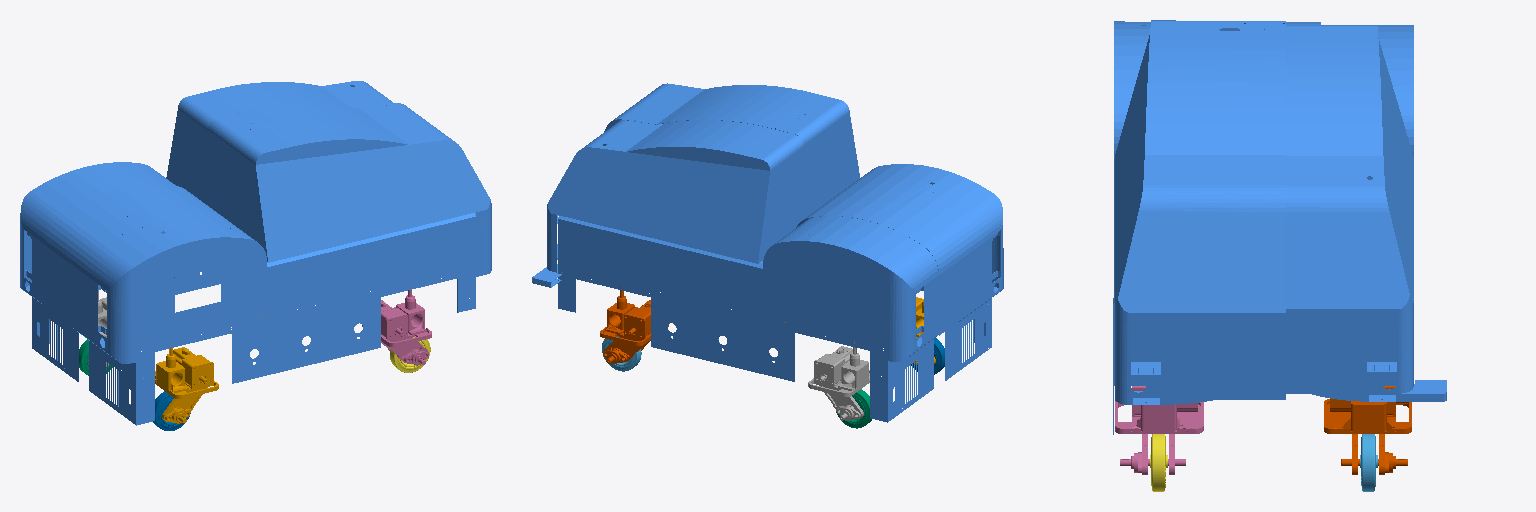
URDF robot description (panthera):
<?xml version="1.0" ?>
<robot name="panthera" xmlns:xacro="http://ros.org/wiki/xacro">

  <!-- links -->
  <link name="base_link">
    <visual>
        <origin xyz="0 0 0" rpy="0 0 0"/>
        <geometry>
            <box size="0.20597 0.216606 0.169247"/>
        </geometry>
    </visual>
  </link>

  <link name="base_left">
    <visual>
      <geometry>
        <mesh filename="package://panthera_description/meshes/base_left.stl"/>
      </geometry>
      <origin xyz="0.0 0 0" rpy="0 0 0"/>
    </visual>
    <collision>
      <geometry>
        <mesh filename="package://panthera_description/meshes/base_left.stl"/>
      </geometry>
      <origin xyz="0.0 0 0" rpy="0 0 0"/>
    </collision>
    <inertial>
      <origin xyz="0 0.35 0" rpy="0 0 0"/>
      <mass value="1"/>
      <inertia ixx="0.166667" ixy="0.000000" ixz="0.000000" iyy="0.166667" iyz="0.000000" izz="0.166667"/>
    </inertial>
  </link>

  <link name="base_left_cover">
    <visual>
      <geometry>
        <mesh filename="package://panthera_description/meshes/base_left_cover.dae"/>
      </geometry>
      <origin xyz="0.0 0 0" rpy="0 0 0"/>
    </visual>
    <collision>
      <geometry>
        <mesh filename="package://panthera_description/meshes/base_left_cover.dae"/>
      </geometry>
      <origin xyz="0.0 0 0" rpy="0 0 0"/>
    </collision>
    <inertial>
      <origin xyz="0 0 0" rpy="0 0 0"/>
      <mass value="1"/>
      <inertia ixx="0.166667" ixy="0.000000" ixz="0.000000" iyy="0.166667" iyz="0.000000" izz="0.166667"/>
    </inertial>
  </link>

  <link name="base_right">
    <visual>
      <geometry>
        <mesh filename="package://panthera_description/meshes/base_right.stl"/>
      </geometry>
      <origin xyz="0 0 0" rpy="0 0 0"/>
    </visual>
    <collision>
      <geometry>
        <mesh filename="package://panthera_description/meshes/base_right.stl"/>
      </geometry>
      <origin xyz="0 0 0" rpy="0 0 0"/>
    </collision>
    <inertial>
      <origin xyz="0 -0.35 0" rpy="0 0 0"/>
      <mass value="1"/>
      <inertia ixx="0.166667" ixy="0.000000" ixz="0.000000" iyy="0.166667" iyz="0.000000" izz="0.166667"/>
    </inertial>
  </link>

  <link name="base_right_cover">
    <visual>
      <geometry>
        <mesh filename="package://panthera_description/meshes/base_right_cover.dae"/>
      </geometry>
      <origin xyz="0 0 0" rpy="0 0 0"/>
    </visual>
    <collision>
      <geometry>
        <mesh filename="package://panthera_description/meshes/base_right_cover.dae"/>
      </geometry>
      <origin xyz="0 0 0" rpy="0 0 0"/>
    </collision>
    <inertial>
      <origin xyz="0 0 0" rpy="0 0 0"/>
      <mass value="1"/>
      <inertia ixx="0.166667" ixy="0.000000" ixz="0.000000" iyy="0.166667" iyz="0.000000" izz="0.166667"/>
    </inertial>
  </link>

  <link name="fl_steering_link">
    <visual>
      <geometry>
        <mesh filename="package://panthera_description/meshes/wheel_holder_front_left.stl"/>
      </geometry>
      <origin xyz="0.0 0.0 0.0" rpy="0 0 0"/>
    </visual>
    <collision>
      <geometry>
        <mesh filename="package://panthera_description/meshes/wheel_holder_front_left.stl"/>
      </geometry>
      <origin xyz="0.0 0.0 0.0" rpy="0 0 0"/>
    </collision>
    <inertial>
      <origin rpy="0 0 0" xyz="0 0 0"/>
      <mass value="1"/>
      <inertia ixx="0.166667" ixy="0.000000" ixz="0.000000" iyy="0.166667" iyz="0.000000" izz="0.166667"/>
    </inertial>
  </link>

  <link name="fr_steering_link">
    <visual>
      <geometry>
        <mesh filename="package://panthera_description/meshes/wheel_holder_front_right.stl"/>
      </geometry>
      <origin xyz="0.0 0.0 0.0" rpy="0 0 0"/>
    </visual>
    <collision>
      <geometry>
        <mesh filename="package://panthera_description/meshes/wheel_holder_front_right.stl"/>
      </geometry>
      <origin xyz="0.0 0.0 0.0" rpy="0 0 0"/>
    </collision>
    <inertial>
      <origin rpy="0 0 0" xyz="0 0 0"/>
      <mass value="1"/>
      <inertia ixx="0.166667" ixy="0.000000" ixz="0.000000" iyy="0.166667" iyz="0.000000" izz="0.166667"/>
    </inertial>
  </link>

  <link name="rl_steering_link">
    <visual>
      <geometry>
        <mesh filename="package://panthera_description/meshes/wheel_holder_rear_left.stl"/>
      </geometry>
      <origin xyz="0.0 0.0 0.0" rpy="0 0 0"/>
    </visual>
    <collision>
      <geometry>
        <mesh filename="package://panthera_description/meshes/wheel_holder_rear_left.stl"/>
      </geometry>
      <origin xyz="0.0 0.0 0.0" rpy="0 0 0"/>
    </collision>
    <inertial>
      <origin rpy="0 0 0" xyz="0 0 0"/>
      <mass value="1"/>
      <inertia ixx="0.166667" ixy="0.000000" ixz="0.000000" iyy="0.166667" iyz="0.000000" izz="0.166667"/>
    </inertial>
  </link>

  <link name="rr_steering_link">
    <visual>
      <geometry>
        <mesh filename="package://panthera_description/meshes/wheel_holder_rear_right.stl"/>
      </geometry>
      <origin xyz="0.0 0.0 0.0" rpy="0 0 0"/>
    </visual>
    <collision>
      <geometry>
        <mesh filename="package://panthera_description/meshes/wheel_holder_rear_right.stl"/>
      </geometry>
      <origin xyz="0.0 0.0 0.0" rpy="0 0 0"/>
    </collision>
    <inertial>
      <origin rpy="0 0 0" xyz="0 0 0"/>
      <mass value="1"/>
      <inertia ixx="0.166667" ixy="0.000000" ixz="0.000000" iyy="0.166667" iyz="0.000000" izz="0.166667"/>
    </inertial>
  </link>

  <link name="fl_wheel_link">
    <visual>
      <geometry>
        <mesh filename="package://panthera_description/meshes/l_wheel.stl"/>
      </geometry>
      <origin xyz="0.0 0.0 0.0" rpy="0 0 0"/>
    </visual>
    <collision>
      <geometry>
        <mesh filename="package://panthera_description/meshes/l_wheel.stl"/>
      </geometry>
      <origin xyz="0.0 0.0 0.0" rpy="0 0 0"/>
    </collision>
    <inertial>
      <origin rpy="0 0 0" xyz="0 0 0"/>
      <mass value="1"/>
      <inertia ixx="0.166667" ixy="0.000000" ixz="0.000000" iyy="0.166667" iyz="0.000000" izz="0.166667"/>
    </inertial>
  </link>

  <link name="rl_wheel_link">
    <visual>
      <geometry>
        <mesh filename="package://panthera_description/meshes/l_wheel.stl"/>
      </geometry>
      <origin xyz="0.0 0.0 0.0" rpy="0 0 0"/>
    </visual>
    <collision>
      <geometry>
        <mesh filename="package://panthera_description/meshes/l_wheel.stl"/>
      </geometry>
      <origin xyz="0.0 0.0 0.0" rpy="0 0 0"/>
    </collision>
    <inertial>
      <origin rpy="0 0 0" xyz="0 0 0"/>
      <mass value="1"/>
      <inertia ixx="0.166667" ixy="0.000000" ixz="0.000000" iyy="0.166667" iyz="0.000000" izz="0.166667"/>
    </inertial>
  </link>

  <link name="fr_wheel_link">
    <visual>
      <geometry>
        <mesh filename="package://panthera_description/meshes/r_wheel.stl"/>
      </geometry>
      <origin xyz="0.0 0.0 0.0" rpy="0 0 0"/>
    </visual>
    <collision>
      <geometry>
        <mesh filename="package://panthera_description/meshes/r_wheel.stl"/>
      </geometry>
      <origin xyz="0.0 0.0 0.0" rpy="0 0 0"/>
    </collision>
    <inertial>
      <origin rpy="0 0 0" xyz="0 0 0"/>
      <mass value="1"/>
      <inertia ixx="0.166667" ixy="0.000000" ixz="0.000000" iyy="0.166667" iyz="0.000000" izz="0.166667"/>
    </inertial>
  </link>

  <link name="rr_wheel_link">
    <visual>
      <geometry>
        <mesh filename="package://panthera_description/meshes/r_wheel.stl"/>
      </geometry>
      <origin xyz="0.0 0.0 0.0" rpy="0 0 0"/>
    </visual>
    <collision>
      <geometry>
        <mesh filename="package://panthera_description/meshes/r_wheel.stl"/>
      </geometry>
      <origin xyz="0.0 0.0 0.0" rpy="0 0 0"/>
    </collision>
    <inertial>
      <origin rpy="0 0 0" xyz="0 0 0"/>
      <mass value="1"/>
      <inertia ixx="0.166667" ixy="0.000000" ixz="0.000000" iyy="0.166667" iyz="0.000000" izz="0.166667"/>
    </inertial>
  </link>

  <!-- joints -->
  <joint name="base_left_joint" type="fixed">
    <!-- <axis xyz="0 1 0"/> -->
    <!-- <limit effort="1000.0" lower="0" upper="0.2" velocity="0.5"/> -->
    <parent link="base_link"/>
    <child link="base_left"/>
    <origin xyz="0 0.35 0" rpy="0 0 0"/>
  </joint>

  <joint name="base_left_cover_joint" type="fixed">
    <parent link="base_left"/>
    <child link="base_left_cover"/>
    <origin xyz="0 0.15 -0.1" rpy="0 0 0"/>
  </joint>

  <joint name="base_right_joint" type="fixed">
    <!-- <axis xyz="0 1 0"/> -->
    <!-- <limit effort="1000.0" lower="-0.2" upper="0" velocity="0.5"/> -->
    <parent link="base_link"/>
    <child link="base_right"/>
    <origin xyz="0 -0.35 0" rpy="0 0 0"/>
  </joint>

  <joint name="base_right_cover_joint" type="fixed">
    <parent link="base_right"/>
    <child link="base_right_cover"/>
    <origin xyz="0 -0.15 -0.1" rpy="0 0 0"/>
  </joint>

  <joint name="fl_steering_link_joint" type="revolute">
    <axis xyz="0 0 1"/>
    <limit effort="1000.0" lower="-1.571" upper="1.571" velocity="0.5"/>
    <origin xyz="0.654 0.0 0.05" rpy="0 0 0"/>
    <parent link="base_left"/>
    <child link="fl_steering_link"/>
  </joint>

  <joint name="fr_steering_link_joint" type="revolute">
    <axis xyz="0 0 1"/>
    <limit effort="1000.0" lower="-1.571" upper="1.571" velocity="0.5"/>
    <origin xyz="0.654 0.0 0.05" rpy="0 0 0"/>
    <parent link="base_right"/>
    <child link="fr_steering_link"/>
  </joint>

  <joint name="rl_steering_link_joint" type="revolute">
    <axis xyz="0 0 1"/>
    <limit effort="1000.0" lower="-1.571" upper="1.571" velocity="0.5"/>
    <origin xyz="-0.654 0.0 0.05" rpy="0 0 0"/>
    <parent link="base_left"/>
    <child link="rl_steering_link"/>
  </joint>

  <joint name="rr_steering_link_joint" type="revolute">
    <axis xyz="0 0 1"/>
    <limit effort="1000.0" lower="-1.571" upper="1.571" velocity="0.5"/>
    <origin xyz="-0.654 0.0 0.05" rpy="0 0 0"/>
    <parent link="base_right"/>
    <child link="rr_steering_link"/>
  </joint>

  <joint name="fl_wheel_link_joint" type="continuous">
    <axis xyz="0 1 0"/>
    <origin xyz="0 0 -0.29" rpy="0 0 0"/>
    <parent link="fl_steering_link"/>
    <child link="fl_wheel_link"/>
  </joint>

  <joint name="rl_wheel_link_joint" type="continuous">
    <axis xyz="0 1 0"/>
    <origin xyz="0 0 -0.29" rpy="0 0 0"/>
    <parent link="rl_steering_link"/>
    <child link="rl_wheel_link"/>
  </joint>

  <joint name="fr_wheel_link_joint" type="continuous">
    <axis xyz="0 1 0"/>
    <origin xyz="0 0 -0.29" rpy="0 0 0"/>
    <parent link="fr_steering_link"/>
    <child link="fr_wheel_link"/>
  </joint>

  <joint name="rr_wheel_link_joint" type="continuous">
    <axis xyz="0 1 0"/>
    <origin xyz="0 0 -0.29" rpy="0 0 0"/>
    <parent link="rr_steering_link"/>
    <child link="rr_wheel_link"/>
  </joint>

  <!-- gazebo related -->

  <!-- materials -->
  <gazebo reference="base_left">
    <material>Gazebo/Grey</material>
  </gazebo>

  <gazebo reference="base_right">
    <material>Gazebo/Grey</material>
  </gazebo>

  <gazebo reference="fl_steering_link">
    <material>Gazebo/Grey</material>
  </gazebo>

  <gazebo reference="fr_steering_link">
    <material>Gazebo/Grey</material>
  </gazebo>

  <gazebo reference="rl_steering_link">
    <material>Gazebo/Grey</material>
  </gazebo>

  <gazebo reference="rr_steering_link">
    <material>Gazebo/Grey</material>
  </gazebo>

  <gazebo reference="fl_wheel_link">
    <mu1 value="100.0" />
    <mu2 value="100.0" />
    <kp  value="1000000.0" />
    <kd  value="1.0" />
    <material>Gazebo/Black</material>
  </gazebo>

  <gazebo reference="fr_wheel_link">
    <mu1 value="100.0" />
    <mu2 value="100.0" />
    <kp  value="1000000.0" />
    <kd  value="1.0" />
    <material>Gazebo/Black</material>
  </gazebo>

  <gazebo reference="rl_wheel_link">
    <mu1 value="100.0" />
    <mu2 value="100.0" />
    <kp  value="1000000.0" />
    <kd  value="1.0" />
    <material>Gazebo/Black</material>
  </gazebo>

  <gazebo reference="rr_wheel_link">
    <mu1 value="100.0" />
    <mu2 value="100.0" />
    <kp  value="1000000.0" />
    <kd  value="1.0" />
    <material>Gazebo/Black</material>
  </gazebo>

  <!-- controllers -->
  <gazebo>
    <plugin name="gazebo_ros_control" filename="libgazebo_ros_control.so">
      <robotNamespace>/</robotNamespace>
    </plugin>
  </gazebo>

  <transmission name="fl_steering_trans">
    <type>transmission_interface/SimpleTransmission</type>
    <actuator name="fl_steering_motor">
      <hardwareInterface>PositionJointInterface</hardwareInterface>
      <mechanicalReduction>1</mechanicalReduction>
    </actuator>
    <joint name="fl_steering_link_joint">
      <hardwareInterface>hardware_interface/PositionJointInterface</hardwareInterface>
    </joint>
  </transmission>

  <transmission name="fr_steering_trans">
    <type>transmission_interface/SimpleTransmission</type>
    <actuator name="fr_steering_motor">
      <hardwareInterface>PositionJointInterface</hardwareInterface>
      <mechanicalReduction>1</mechanicalReduction>
    </actuator>
    <joint name="fr_steering_link_joint">
      <hardwareInterface>hardware_interface/PositionJointInterface</hardwareInterface>
    </joint>
  </transmission>

  <transmission name="rl_steering_trans">
    <type>transmission_interface/SimpleTransmission</type>
    <actuator name="rl_steering_motor">
      <hardwareInterface>PositionJointInterface</hardwareInterface>
      <mechanicalReduction>1</mechanicalReduction>
    </actuator>
    <joint name="rl_steering_link_joint">
      <hardwareInterface>hardware_interface/PositionJointInterface</hardwareInterface>
    </joint>
  </transmission>

  <transmission name="rr_steering_trans">
    <type>transmission_interface/SimpleTransmission</type>
    <actuator name="rr_steering_motor">
      <hardwareInterface>PositionJointInterface</hardwareInterface>
      <mechanicalReduction>1</mechanicalReduction>
    </actuator>
    <joint name="rr_steering_link_joint">
      <hardwareInterface>hardware_interface/PositionJointInterface</hardwareInterface>
    </joint>
  </transmission>

  <transmission name="fl_wheel_trans">
    <type>transmission_interface/SimpleTransmission</type>
    <actuator name="fl_wheel_motor">
      <hardwareInterface>VelocityJointInterface</hardwareInterface>
      <mechanicalReduction>1</mechanicalReduction>
    </actuator>
    <joint name="fl_wheel_link_joint">
      <hardwareInterface>hardware_interface/VelocityJointInterface</hardwareInterface>
    </joint>
  </transmission>

  <transmission name="fr_wheel_trans">
    <type>transmission_interface/SimpleTransmission</type>
    <actuator name="fr_wheel_motor">
      <hardwareInterface>VelocityJointInterface</hardwareInterface>
      <mechanicalReduction>1</mechanicalReduction>
    </actuator>
    <joint name="fr_wheel_link_joint">
      <hardwareInterface>hardware_interface/VelocityJointInterface</hardwareInterface>
    </joint>
  </transmission>

  <transmission name="rl_wheel_trans">
    <type>transmission_interface/SimpleTransmission</type>
    <actuator name="rl_wheel_motor">
      <hardwareInterface>VelocityJointInterface</hardwareInterface>
      <mechanicalReduction>1</mechanicalReduction>
    </actuator>
    <joint name="rl_wheel_link_joint">
      <hardwareInterface>hardware_interface/VelocityJointInterface</hardwareInterface>
    </joint>
  </transmission>

  <transmission name="rr_wheel_trans">
    <type>transmission_interface/SimpleTransmission</type>
    <actuator name="rr_wheel_motor">
      <hardwareInterface>VelocityJointInterface</hardwareInterface>
      <mechanicalReduction>1</mechanicalReduction>
    </actuator>
    <joint name="rr_wheel_link_joint">
      <hardwareInterface>hardware_interface/VelocityJointInterface</hardwareInterface>
    </joint>
  </transmission>

</robot>

--- Facts derived from the render (not from the file) ---
The picture shows the robot from 3 angles, left to right: view 1: azimuth 30°, elevation 25°; view 2: azimuth 150°, elevation 25°; view 3: azimuth 270°, elevation 25°; orthographic projection.
Model panthera with 13 links and 12 joints (4 revolute, 4 continuous, 4 fixed), rooted at base_link, posed all joints at 0.
Links seen in each view (by area): view 1: base_right_cover, base_left_cover, rr_steering_link, fr_steering_link, rr_wheel_link; view 2: base_left_cover, base_right_cover, rl_steering_link, fl_steering_link; view 3: base_right_cover, base_left_cover, fl_steering_link, fr_steering_link, fr_wheel_link, fl_wheel_link.
Link boxes in pixels (x1,y1,x2,y2): base_right_cover: (44, 103, 491, 425); base_left_cover: (20, 81, 393, 381); rr_steering_link: (155, 344, 218, 423); fr_steering_link: (362, 283, 431, 365); rr_wheel_link: (153, 391, 190, 430); base_left_cover: (532, 115, 938, 422); base_right_cover: (604, 83, 1003, 380); rl_steering_link: (808, 341, 869, 420); fl_steering_link: (600, 286, 668, 363); base_right_cover: (1113, 20, 1320, 434); base_left_cover: (1282, 25, 1446, 401); fl_steering_link: (1324, 386, 1411, 474); fr_steering_link: (1115, 386, 1203, 474); fr_wheel_link: (1150, 434, 1167, 491); fl_wheel_link: (1360, 434, 1377, 491).
Bounding box of the posed robot: 2.07 × 1.11 × 1.34 m (x, y, z).
Meshes: 10 distinct files referenced, 10 mesh visuals loaded (6 binary STL, 2 Collada DAE); not drawn: 2 (reference not matched to a file when rendering).